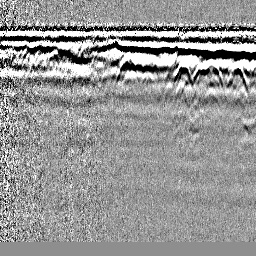cavity: (115, 51, 139, 87)
